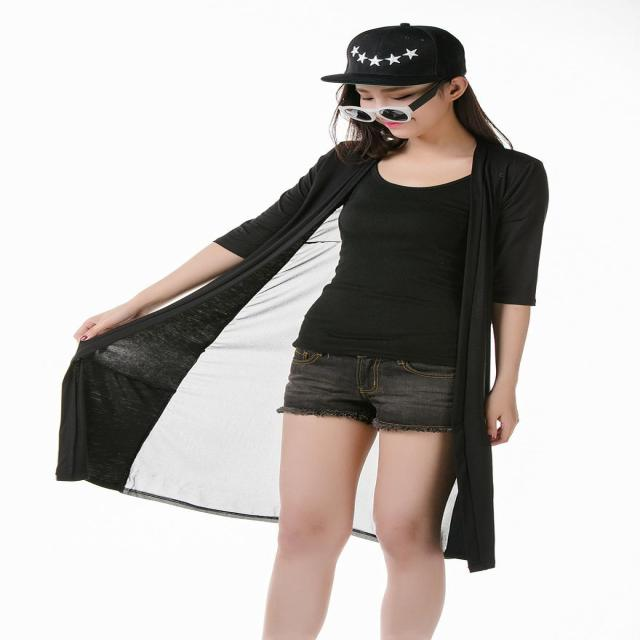long sleeve outwear: (55, 141, 392, 524)
shorts: (277, 330, 474, 433)
